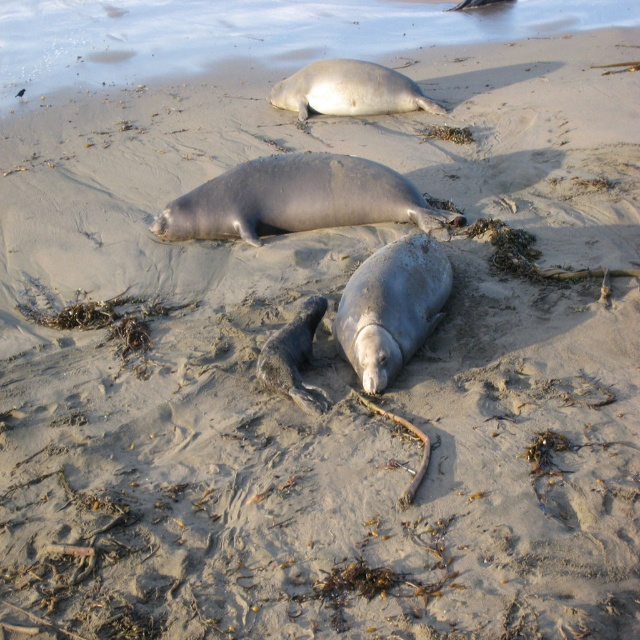Harbor seal: (148, 151, 467, 248), (328, 233, 469, 398), (268, 55, 450, 121), (257, 294, 329, 414), (443, 0, 515, 14)
